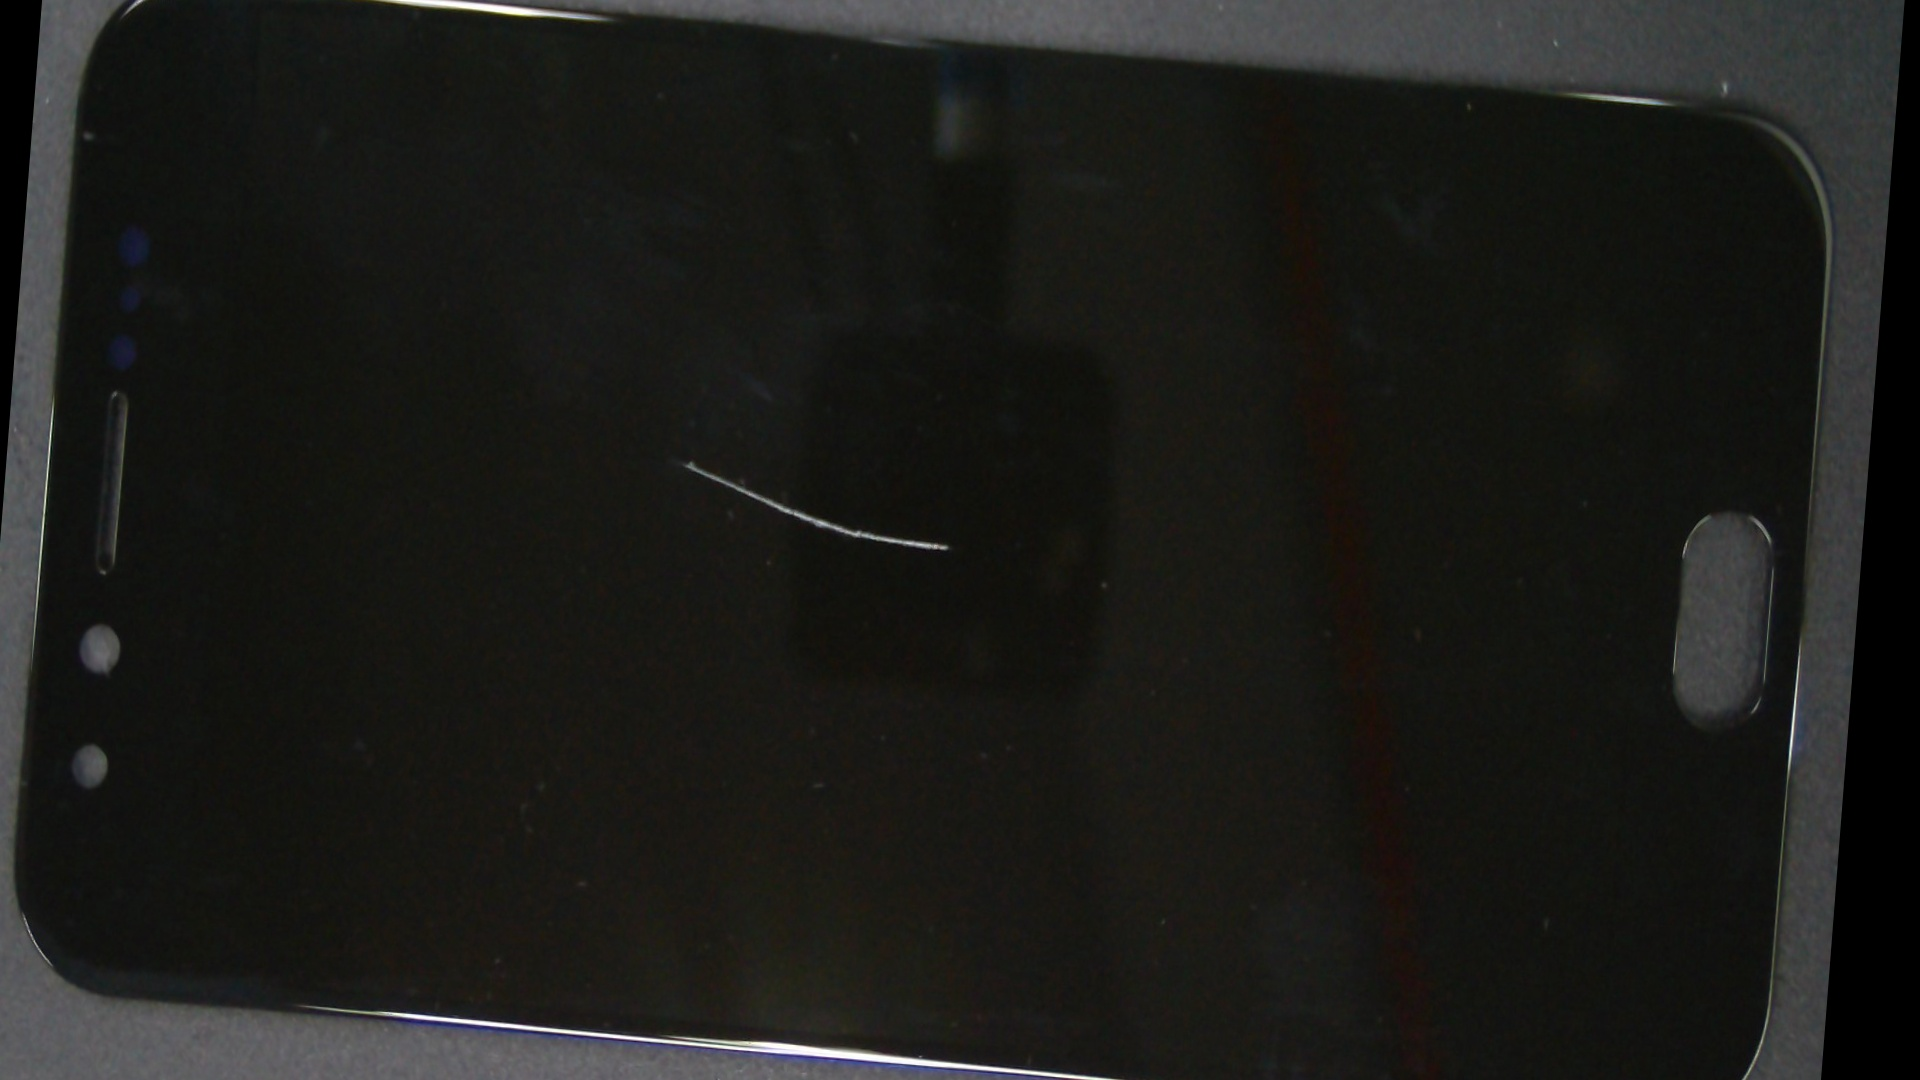oil: (328, 157, 1047, 767)
